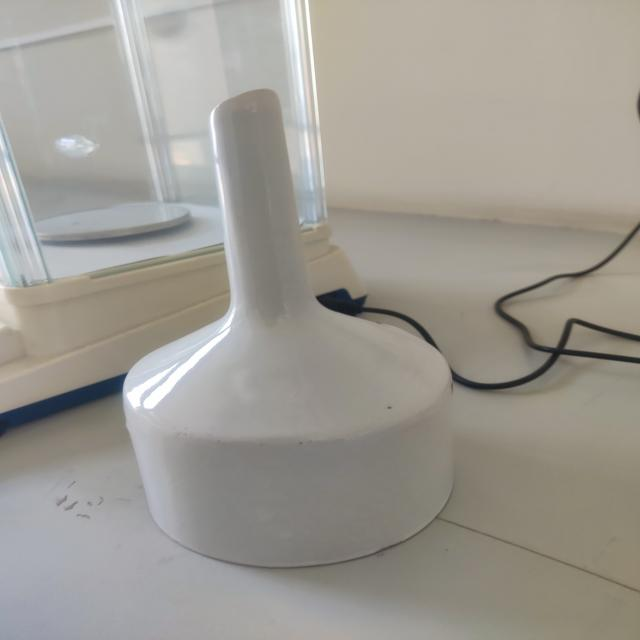Buchner_Funnel: (90, 66, 502, 592)
